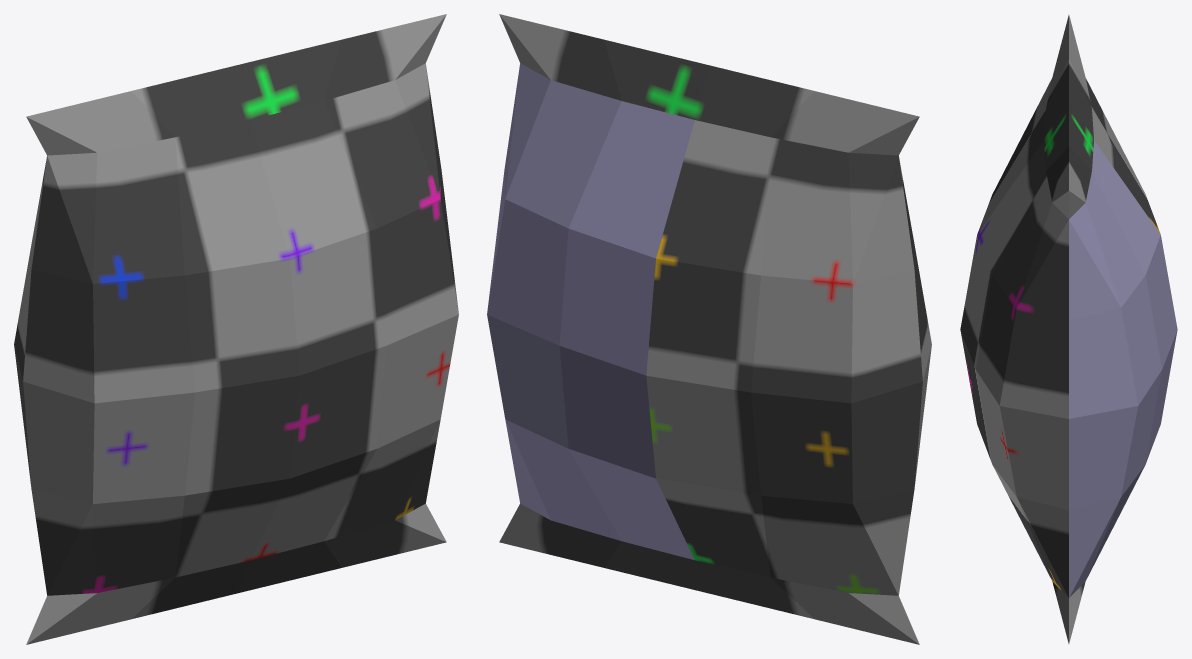
File: Snack.fbx
3 views of the same model, side by side, from view 1: azimuth 30°, elevation 25°; view 2: azimuth 150°, elevation 25°; view 3: azimuth 270°, elevation 25° (orthographic). The views are drawn at different scales.
Parts seen in each view (by area): view 1: SnackModel; view 2: SnackModel; view 3: SnackModel.
Part boxes in pixels (x1=…): SnackModel: x1=14, y1=14, x2=458, y2=644; SnackModel: x1=487, y1=14, x2=931, y2=644; SnackModel: x1=960, y1=15, x2=1177, y2=643.
Bounding box in the file's own units: 507 × 600 × 260.
